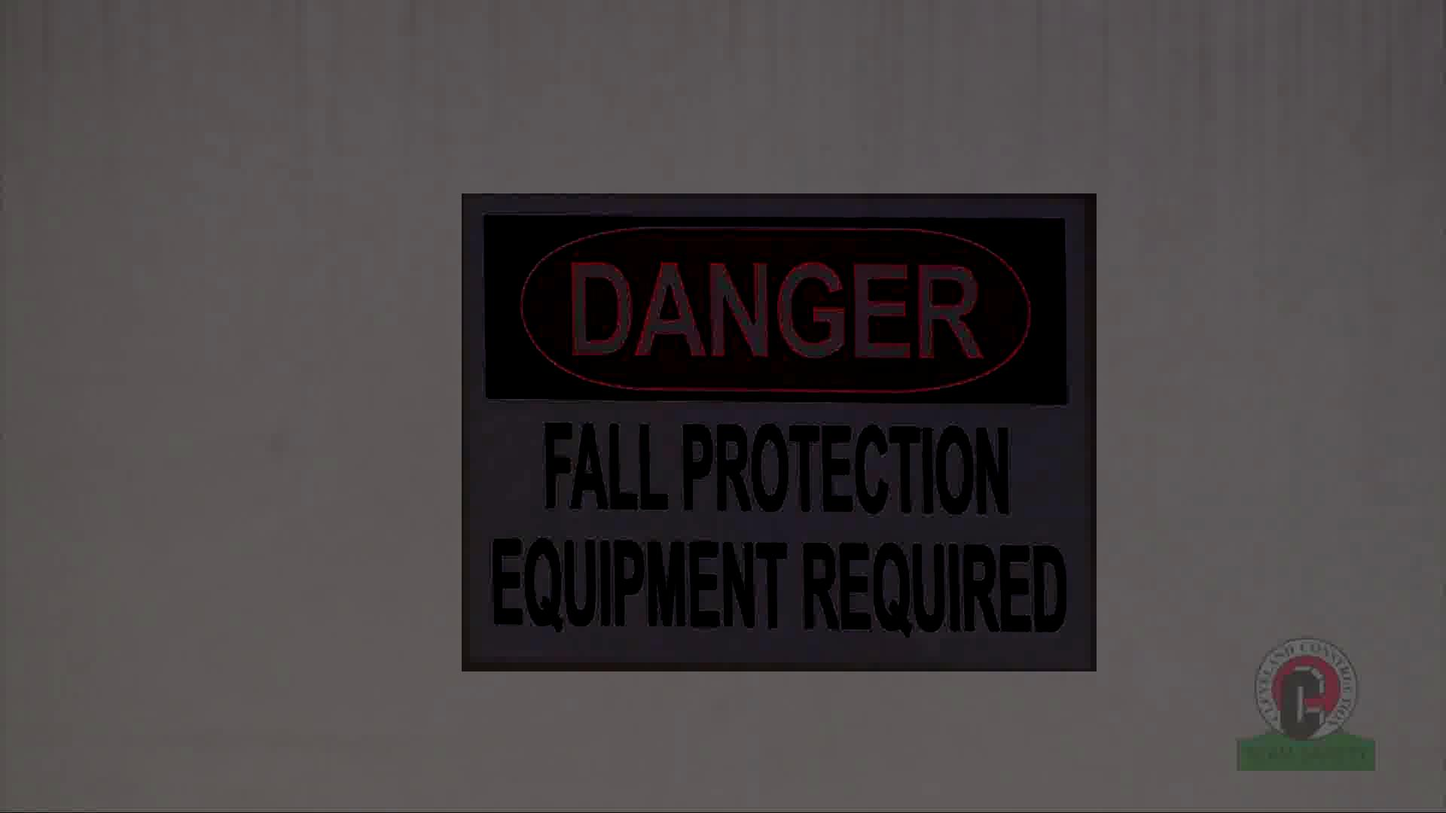safety_signage: (462, 193, 1097, 671)
